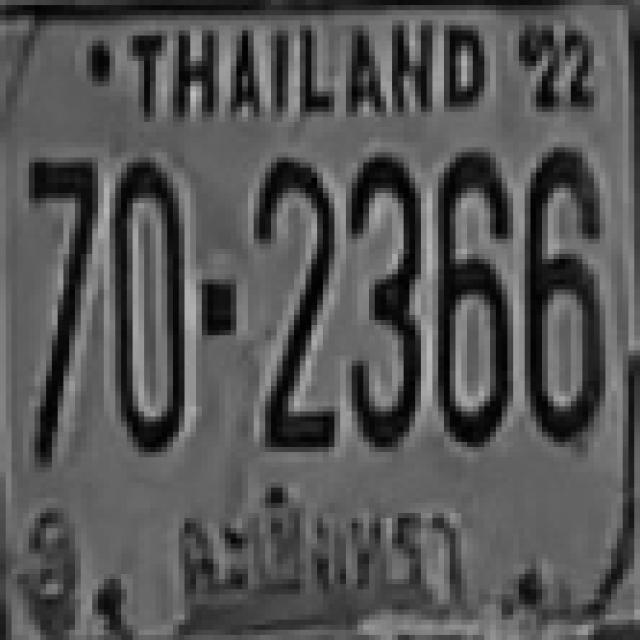0: (519, 244, 600, 437)
Chachoengsao: (151, 478, 493, 599)
